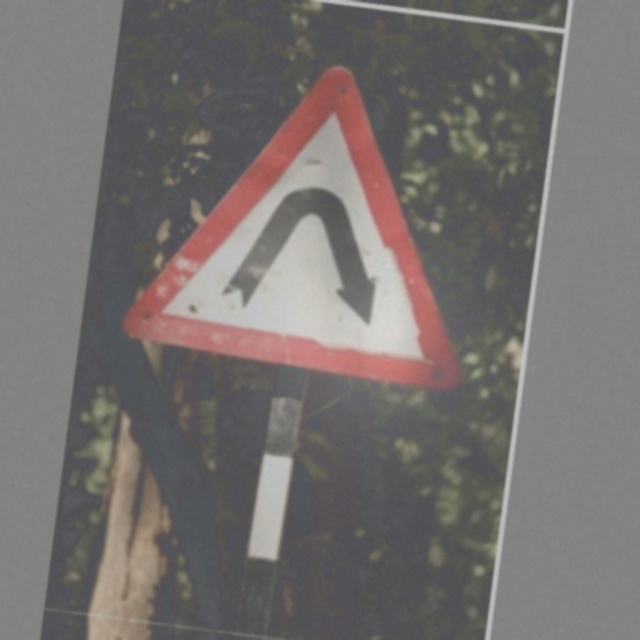Right_Hair_Pin_Bend: (130, 45, 490, 389)
